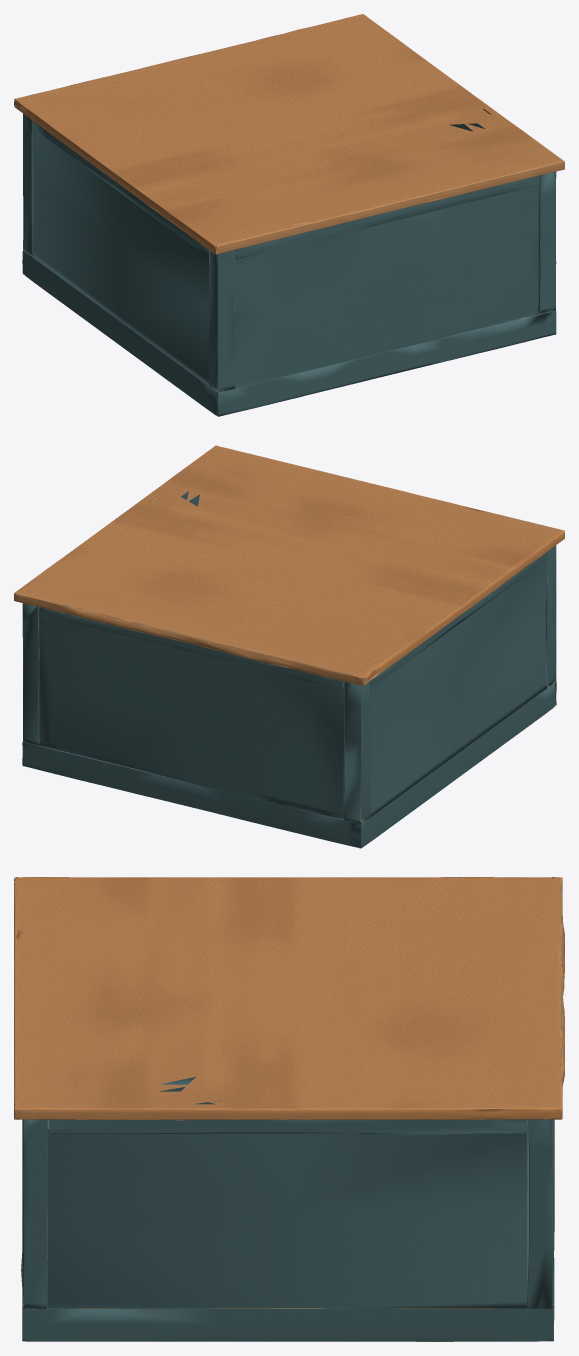
File: ck_coffee_counter-original.glb
3 views of the same model, one above another, from view 1: azimuth 30°, elevation 25°; view 2: azimuth 150°, elevation 25°; view 3: azimuth 270°, elevation 25° (orthographic). The views are drawn at different scales.
Bounding box in the file's own units: 0.9458 × 0.4517 × 0.9497.
Materials: 1 (1 with a texture image).
